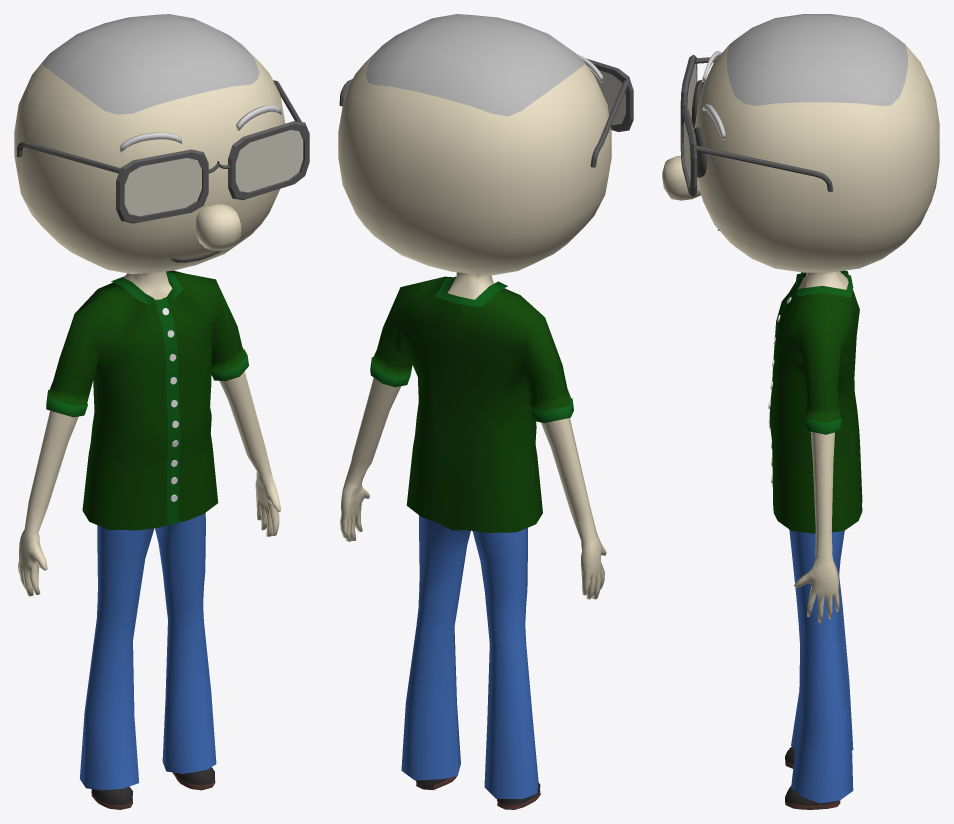
Rendered from neighbor.fbx.
3 views of the same model, side by side, from view 1: azimuth 30°, elevation 25°; view 2: azimuth 150°, elevation 25°; view 3: azimuth 270°, elevation 25° (orthographic).
Parts seen in each view (by area): view 1: DAD.001, DAD.005, DAD.003, Cylinder.001, DAD.002, DAD.004; view 2: DAD.001, DAD.005, DAD.003, Cylinder.001, DAD.004; view 3: DAD.001, DAD.005, DAD.003, Cylinder.001, DAD.002, DAD.004.
Boxes of the visible parts, x1,y1,x2,y2 form: DAD.001: [14, 14, 285, 596]; DAD.005: [46, 270, 248, 530]; DAD.003: [79, 513, 216, 790]; Cylinder.001: [16, 80, 309, 223]; DAD.002: [119, 105, 281, 262]; DAD.004: [91, 767, 215, 809]; DAD.001: [338, 14, 611, 599]; DAD.005: [370, 276, 573, 532]; DAD.003: [401, 515, 538, 798]; Cylinder.001: [339, 58, 633, 167]; DAD.004: [416, 776, 540, 809]; DAD.001: [695, 14, 939, 622]; DAD.005: [769, 270, 862, 533]; DAD.003: [789, 529, 853, 803]; Cylinder.001: [680, 54, 833, 196]; DAD.002: [662, 51, 725, 230]; DAD.004: [785, 747, 840, 809].
Size of the model in its own units: 94.25 by 266 by 88.96.
